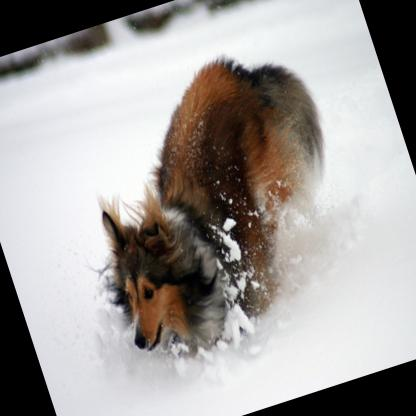Shetland_sheepdog: (48, 33, 376, 371)
